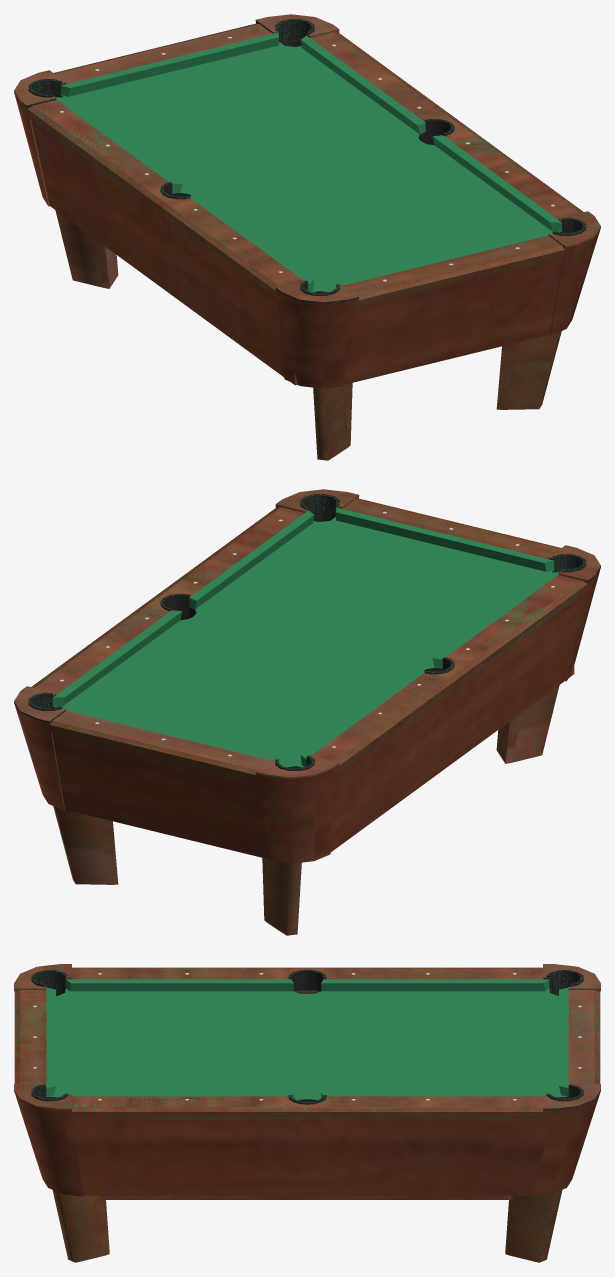
Rendered from PoolTable.dae.
3 renders of one model, top to bottom at view 1: azimuth 30°, elevation 25°; view 2: azimuth 150°, elevation 25°; view 3: azimuth 270°, elevation 25°, orthographic. The views are drawn at different scales.
Visible parts, largest first — view 1: SketchUp (×13); view 2: SketchUp (×12); view 3: SketchUp (×12).
Boxes of the visible parts, left/top/right/bottom form: SketchUp (×13): left=14, top=14, right=600, bottom=460; SketchUp (×12): left=14, top=489, right=600, bottom=935; SketchUp (×12): left=14, top=964, right=600, bottom=1262.
Bounding box in the file's own units: 53 × 91 × 30.1.
